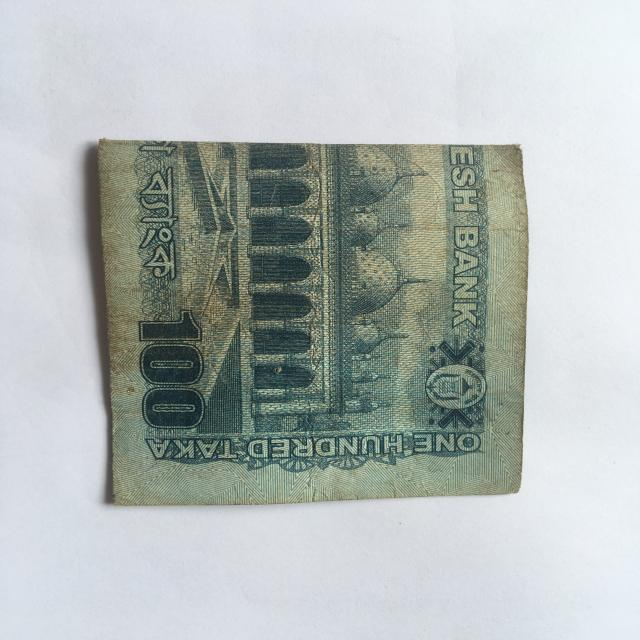Taka: (88, 124, 523, 493)
